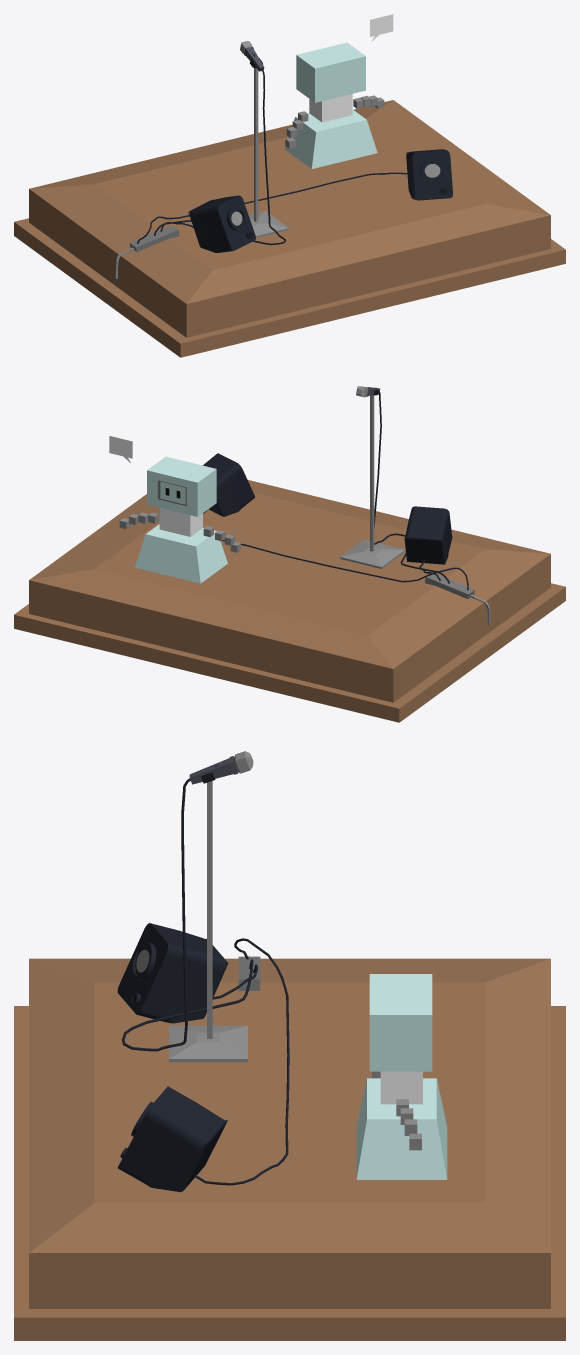
File: gym.glb
3 views of the same model, one above another, from view 1: azimuth 30°, elevation 25°; view 2: azimuth 150°, elevation 25°; view 3: azimuth 270°, elevation 25° (orthographic). The views are drawn at different scales.
Parts seen in each view (by area): view 1: 立方体, 立方体.008, 立方体.006, 立方体.005, 立方体.004, 立方体.007, 立方体.001, 立方体.013, 立方体.002, 立方体.009, 円柱.001, 円柱.002 (+1 smaller); view 2: 立方体, 立方体.008, 立方体.006, 立方体.005, 立方体.004, 立方体.002, 立方体.007, 立方体.013, 立方体.001, 立方体.009, 円柱.002, 円柱.001 (+1 smaller); view 3: 立方体, 立方体.005, 立方体.008, 立方体.004, 立方体.006, 立方体.002, 円柱.001, 立方体.001, 立方体.007, 円柱.002, 立方体.003, 立方体.013.
Boxes of the visible parts, x1=… form: 立方体: x1=14, y1=100, x2=565, y2=357; 立方体.008: x1=284, y1=109, x2=377, y2=168; 立方体.006: x1=296, y1=42, x2=365, y2=102; 立方体.005: x1=188, y1=195, x2=255, y2=252; 立方体.004: x1=406, y1=149, x2=452, y2=200; 立方体.007: x1=309, y1=94, x2=352, y2=122; 立方体.001: x1=254, y1=68, x2=258, y2=221; 立方体.013: x1=285, y1=95, x2=384, y2=148; 立方体.002: x1=248, y1=210, x2=288, y2=237; 立方体.009: x1=129, y1=225, x2=179, y2=251; 円柱.001: x1=154, y1=68, x2=286, y2=245; 円柱.002: x1=137, y1=172, x2=407, y2=243; 立方体: x1=14, y1=480, x2=565, y2=722; 立方体.008: x1=135, y1=524, x2=227, y2=583; 立方体.006: x1=147, y1=456, x2=216, y2=516; 立方体.005: x1=404, y1=506, x2=452, y2=564; 立方体.004: x1=203, y1=453, x2=254, y2=516; 立方体.002: x1=340, y1=539, x2=405, y2=568; 立方体.007: x1=159, y1=508, x2=202, y2=536; 立方体.013: x1=119, y1=512, x2=240, y2=552; 立方体.001: x1=370, y1=395, x2=374, y2=551; 立方体.009: x1=425, y1=574, x2=474, y2=599; 円柱.002: x1=203, y1=510, x2=468, y2=590; 円柱.001: x1=374, y1=392, x2=449, y2=583; 立方体: x1=14, y1=958, x2=565, y2=1340; 立方体.005: x1=117, y1=923, x2=228, y2=1023; 立方体.008: x1=356, y1=1078, x2=447, y2=1179; 立方体.004: x1=118, y1=1086, x2=227, y2=1192; 立方体.006: x1=369, y1=974, x2=432, y2=1071; 立方体.002: x1=169, y1=1025, x2=247, y2=1062; 円柱.001: x1=122, y1=778, x2=253, y2=1051; 立方体.001: x1=207, y1=781, x2=212, y2=1038; 立方体.007: x1=380, y1=1071, x2=422, y2=1104; 円柱.002: x1=195, y1=938, x2=289, y2=1185; 立方体.003: x1=189, y1=751, x2=253, y2=784; 立方体.013: x1=372, y1=1071, x2=421, y2=1150.
Bounding box in the file's own units: 18.64 × 10.71 × 13.95.
